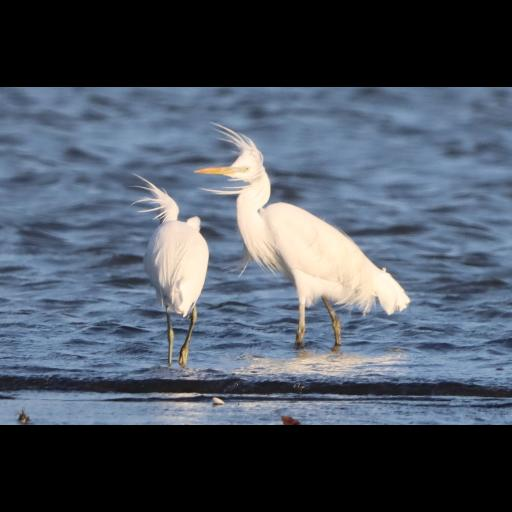chinese_egret: (193, 120, 411, 348)
